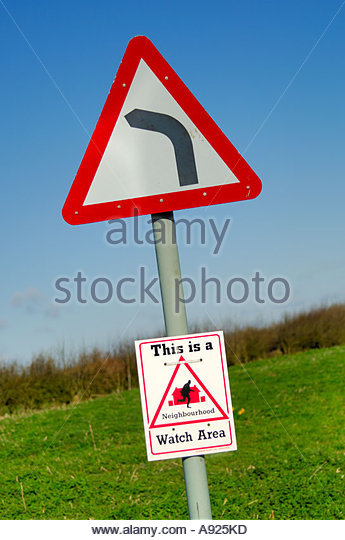Bend_to_left: (57, 33, 265, 230)
